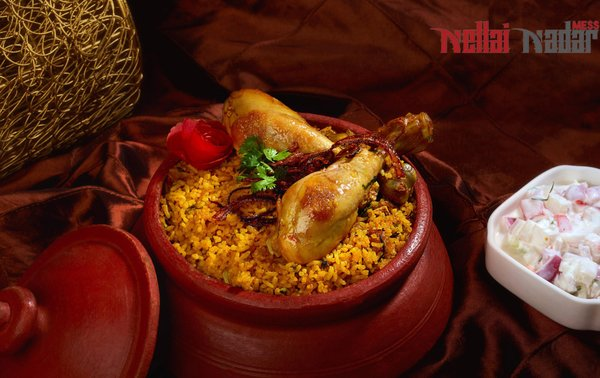sushi: (141, 89, 437, 361), (484, 164, 600, 332)
